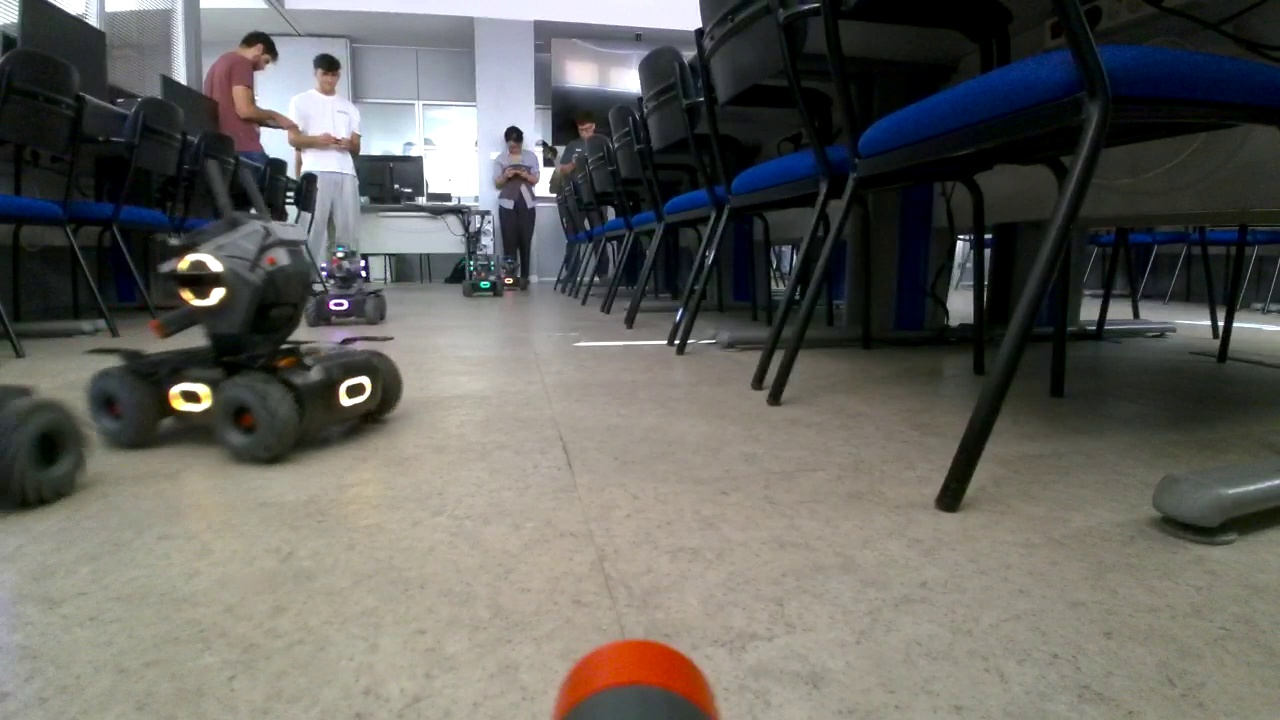robot: (92, 216, 405, 463), (307, 243, 388, 322), (462, 249, 503, 299), (493, 258, 528, 293)
